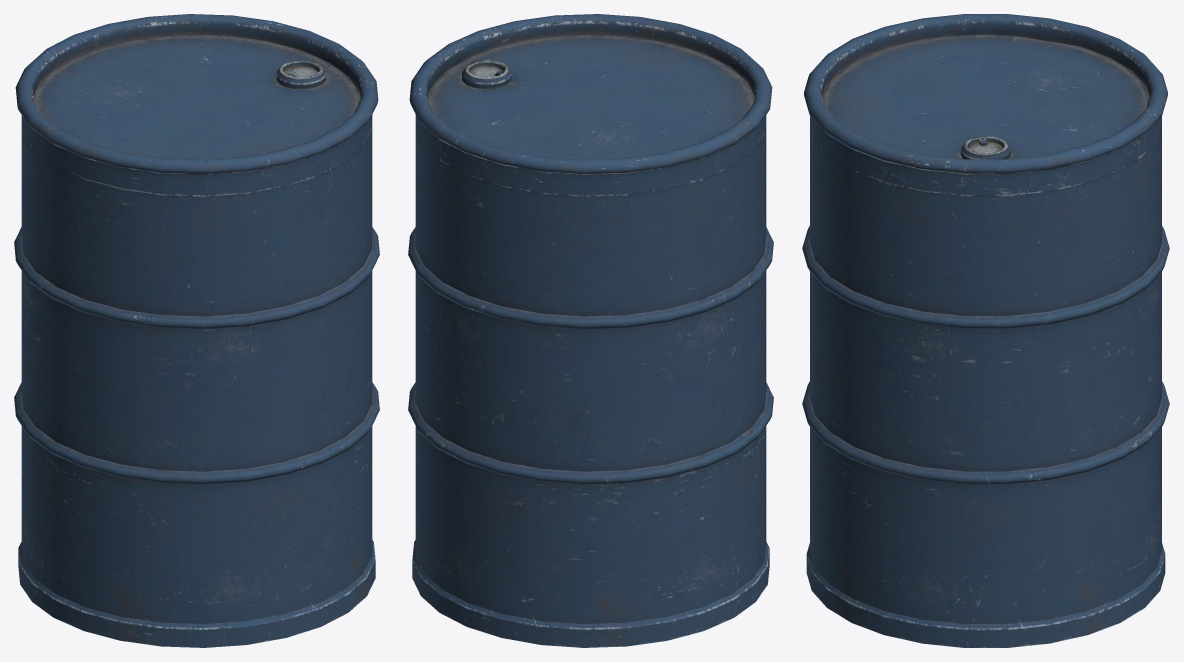
The model's file is barrel_03.glb.
The picture shows the model from 3 angles, left to right: view 1: azimuth 30°, elevation 25°; view 2: azimuth 150°, elevation 25°; view 3: azimuth 270°, elevation 25°; orthographic projection.
Parts seen in each view (by area): view 1: barrel_03; view 2: barrel_03; view 3: barrel_03.
Part boxes in pixels (x1,y1,x2,y2): barrel_03: [14, 14, 379, 647]; barrel_03: [408, 14, 773, 647]; barrel_03: [802, 14, 1169, 647].
Bounding box in the file's own units: 0.6339 × 0.9305 × 0.6386.
Materials: 1 (1 with a texture image).
